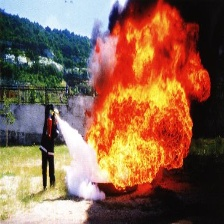fire: (84, 12, 207, 189)
